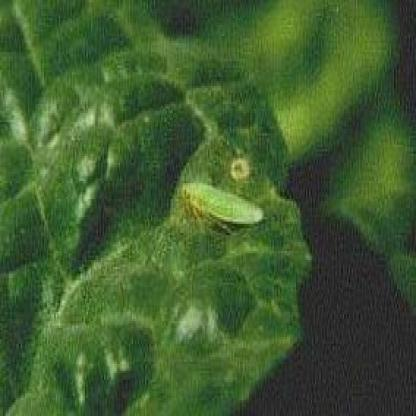Green-Leafhopper: (178, 179, 264, 235)
